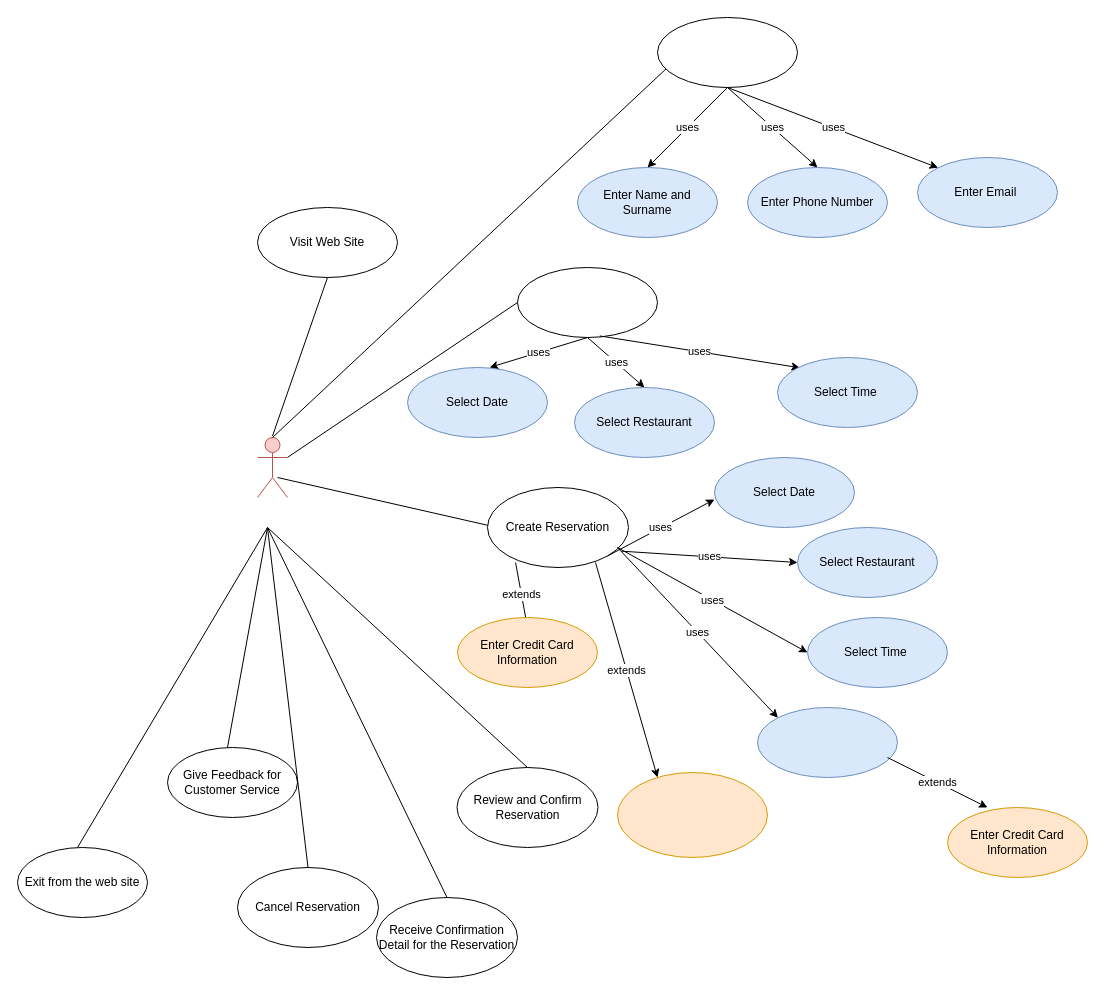
The diagram is 1105 pixels wide and 995 high, and some of its shapes have lost their labels. Each missing label, with the box of its shape:
Choose whether to be put in waitlist: (616, 772, 768, 858)
Customer: (256, 436, 288, 498)
Modify Reservation: (516, 266, 658, 338)
Register: (656, 16, 798, 88)
Select Number of People: (756, 706, 898, 778)
